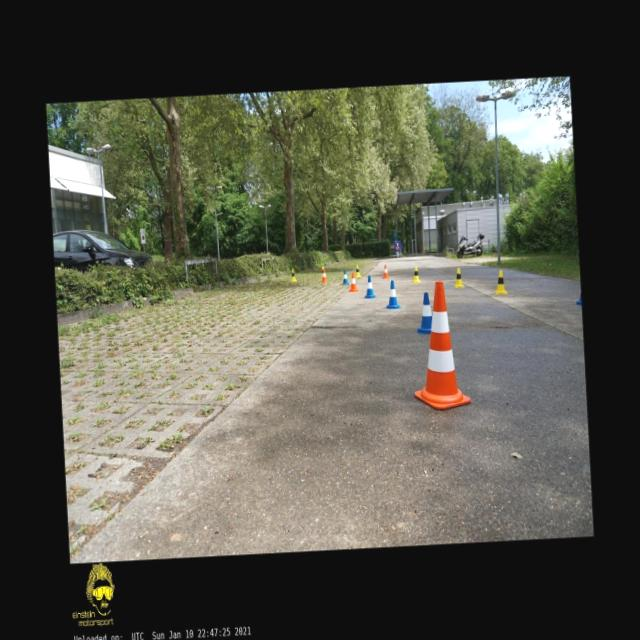blue_cone: (415, 292, 433, 334), (386, 280, 400, 308), (364, 275, 376, 299), (342, 269, 349, 285)
large_orange_cone: (408, 280, 472, 412)
orange_cone: (348, 272, 358, 292), (382, 264, 389, 278), (321, 268, 327, 282)
yellow_cone: (494, 270, 508, 294), (453, 268, 464, 287), (412, 266, 421, 284), (354, 264, 361, 277), (290, 269, 296, 282)
